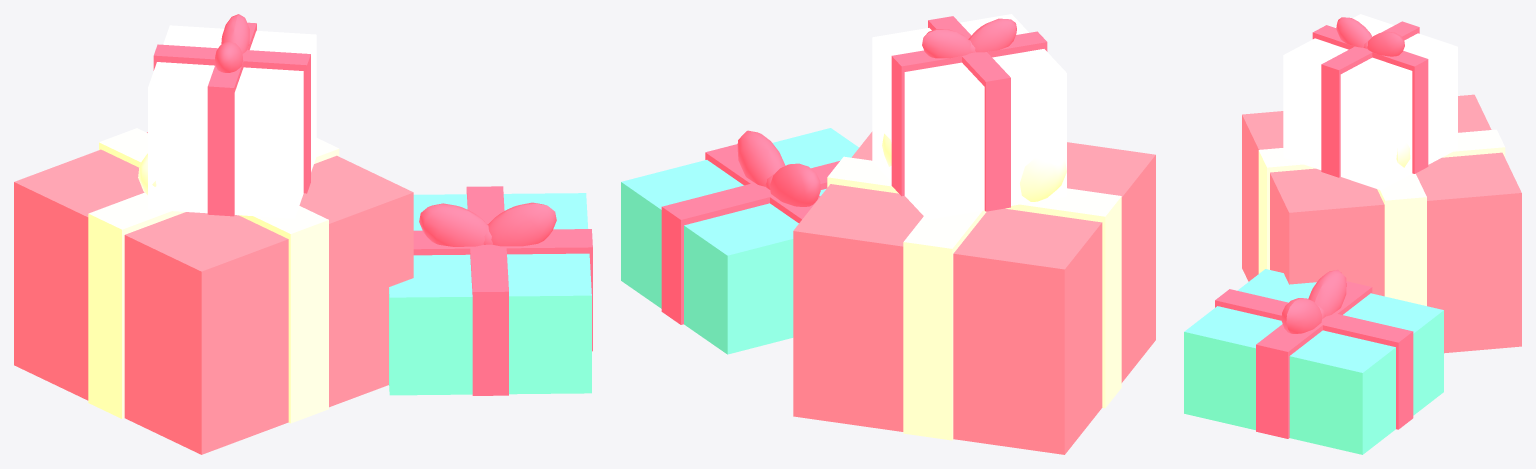
The model's file is gifts-night.glb.
3 renders of one model, left to right at view 1: azimuth 30°, elevation 25°; view 2: azimuth 150°, elevation 25°; view 3: azimuth 270°, elevation 25°, orthographic. The views are drawn at different scales.
Bounding box in the file's own units: 0.8655 × 0.5595 × 0.5974.
